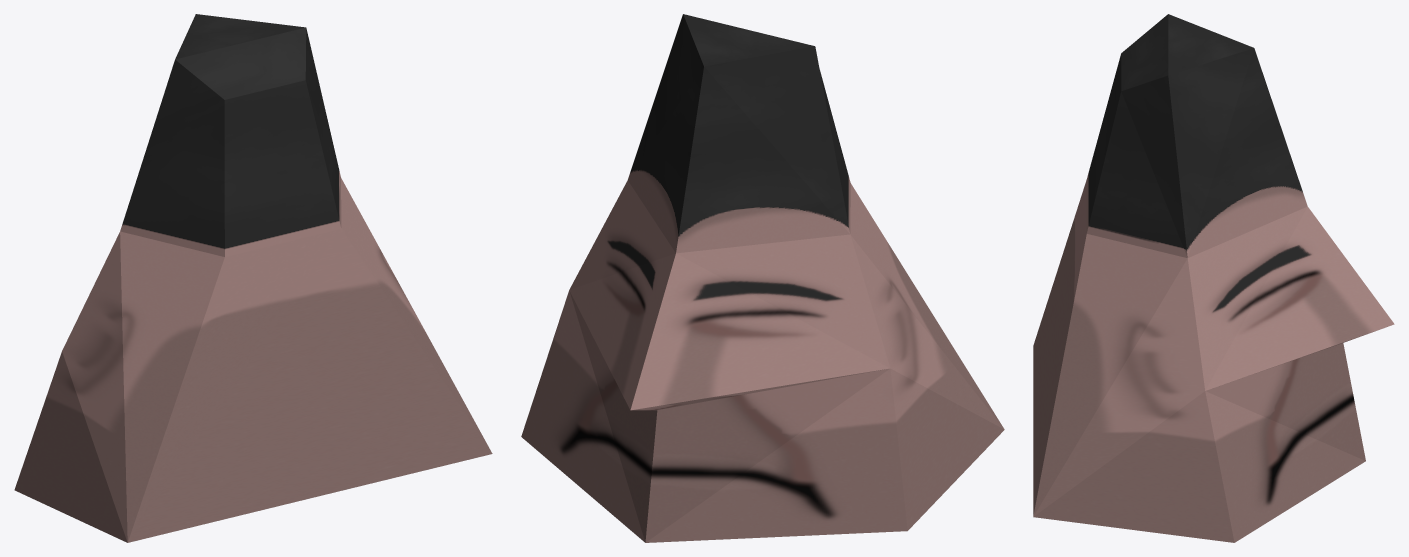
The model's file is stooge.glb.
The picture shows the model from 3 angles, left to right: view 1: azimuth 30°, elevation 25°; view 2: azimuth 150°, elevation 25°; view 3: azimuth 270°, elevation 25°; orthographic projection. The views are drawn at different scales.
Parts seen in each view (by area): view 1: stooge; view 2: stooge; view 3: stooge.
Part boxes in pixels (<box>): stooge: <box>14,14,492,542</box>; stooge: <box>521,14,1004,542</box>; stooge: <box>1033,14,1394,542</box>.
Bounding box in the file's own units: 1.22 × 1.32 × 1.04.
Materials: 1 (1 with a texture image).
